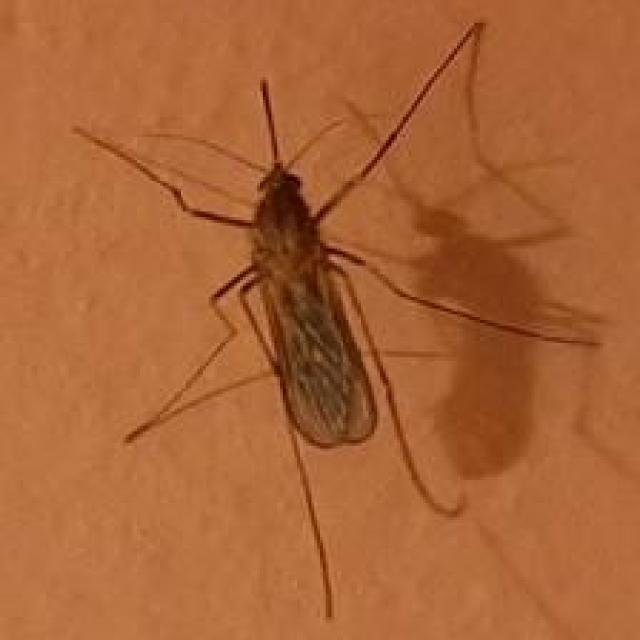Culex: (70, 20, 607, 620)
